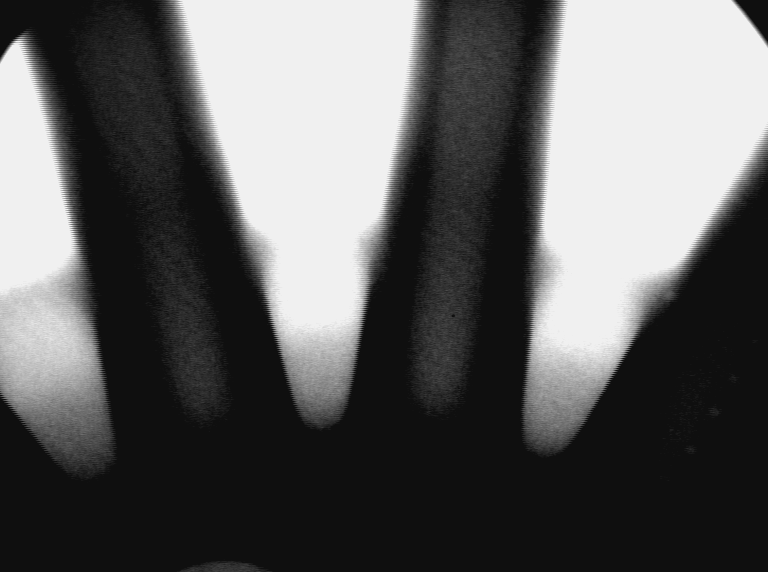defect: (658, 287, 684, 307)
